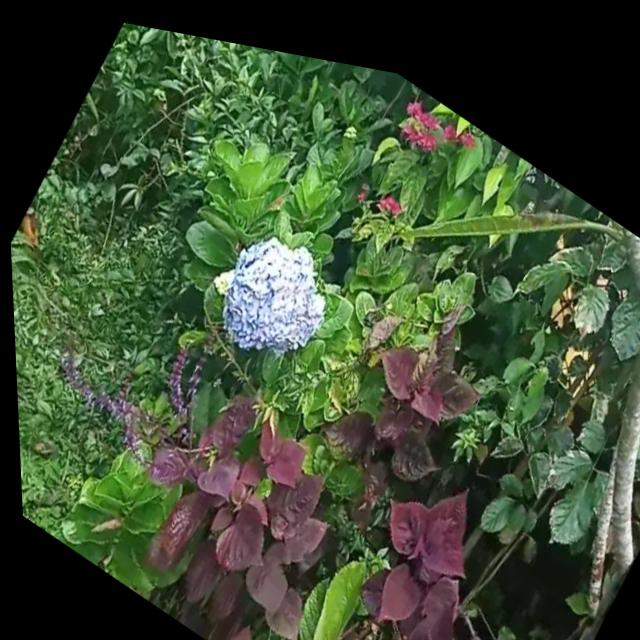Flower: (193, 192, 354, 389)
